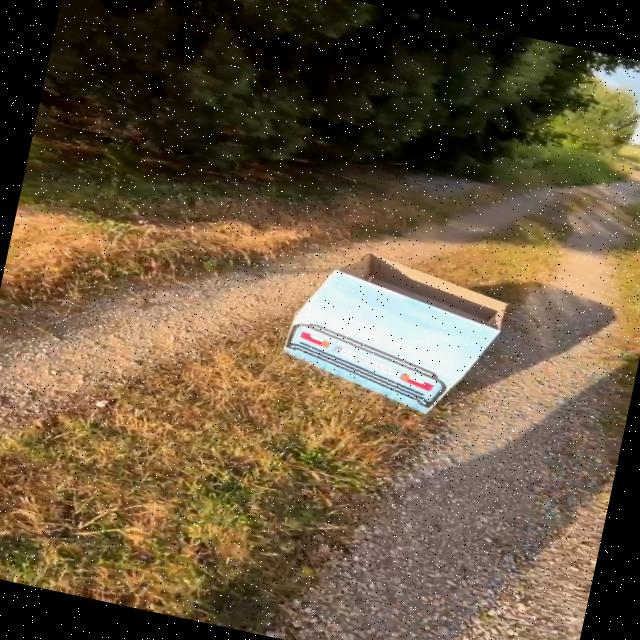blue_car: (223, 213, 552, 460)
